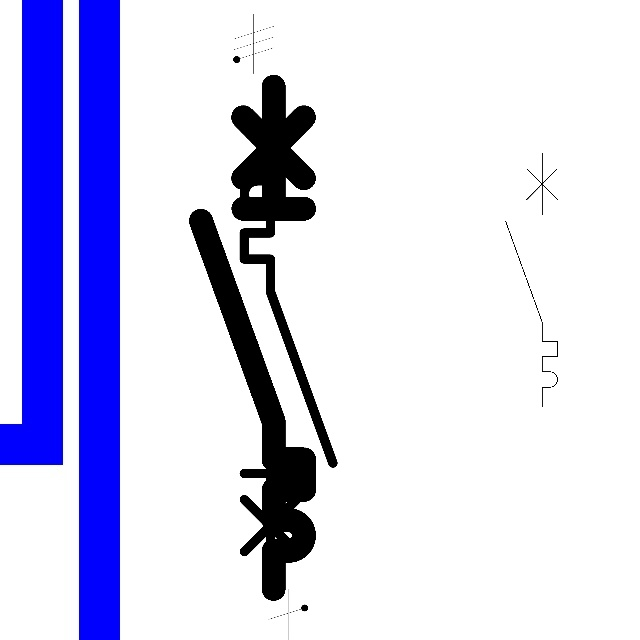interruptor_termomagnetico: (188, 73, 317, 601), (233, 137, 343, 589), (499, 147, 564, 413)
